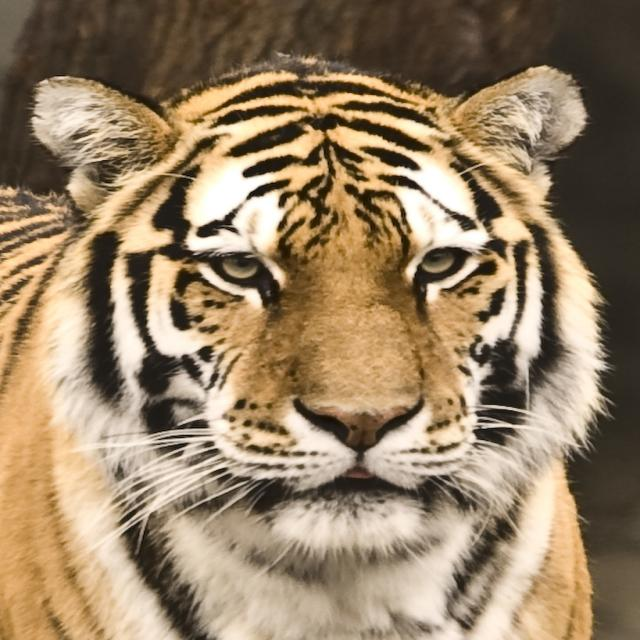Tiger: (0, 46, 619, 640)
